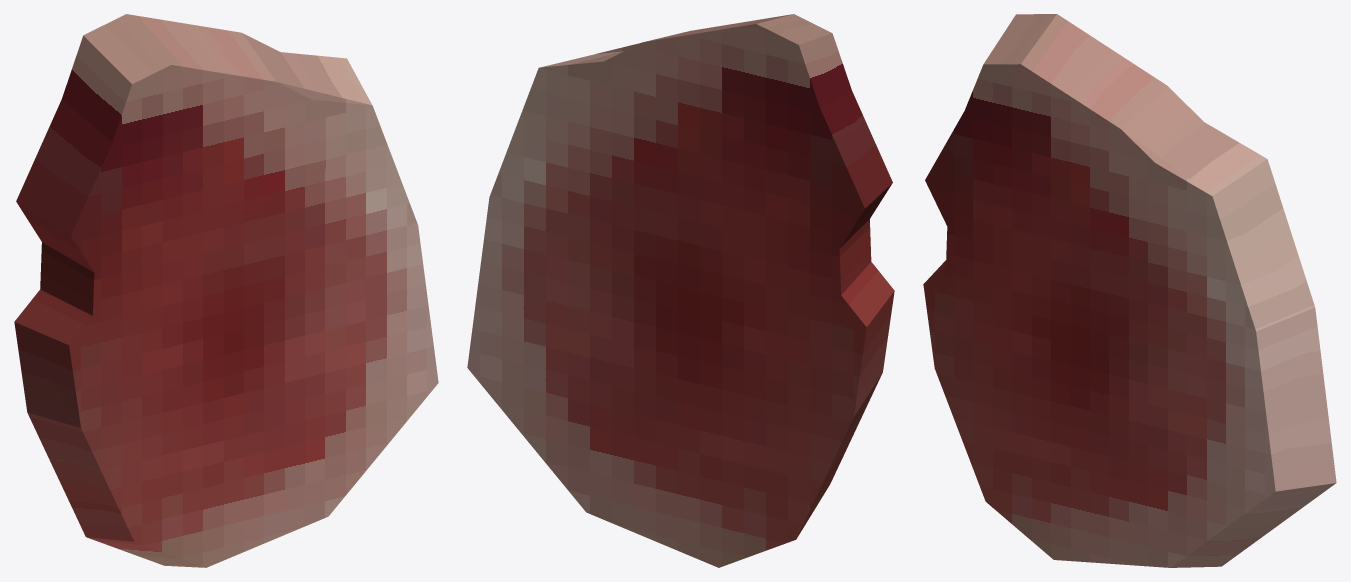
File: Meat.glb
3 renders of one model, left to right at view 1: azimuth 30°, elevation 25°; view 2: azimuth 150°, elevation 25°; view 3: azimuth 330°, elevation 25°, orthographic. The views are drawn at different scales.
Visible parts, largest first — view 1: Meat; view 2: Meat; view 3: Meat.
Part boxes in pixels (<box>): Meat: <box>14,14,438,567</box>; Meat: <box>467,14,894,567</box>; Meat: <box>923,14,1336,567</box>.
Size of the model in its own units: 0.5133 by 0.6794 by 0.0914.
1 material, 1 textured.
